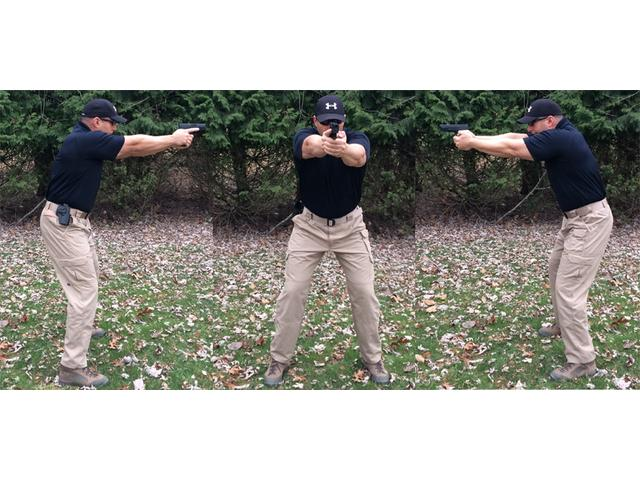pistol: (439, 123, 470, 153), (175, 122, 206, 151), (326, 122, 340, 156)
